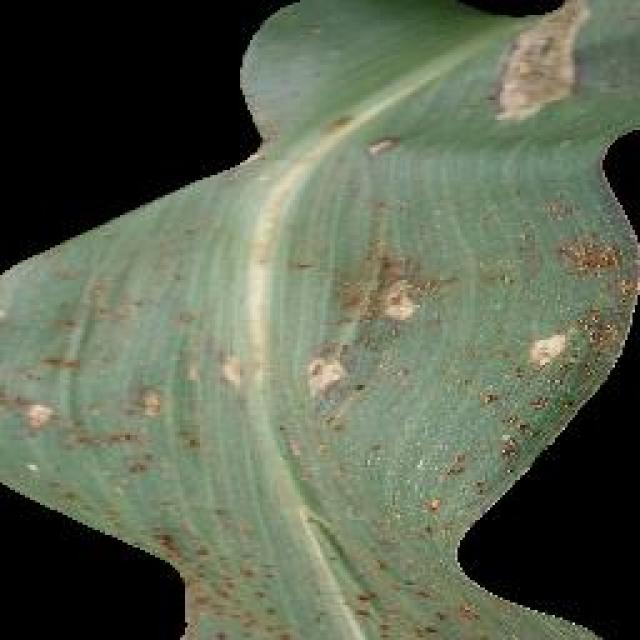Corn Common Rust: (60, 225, 588, 607)
